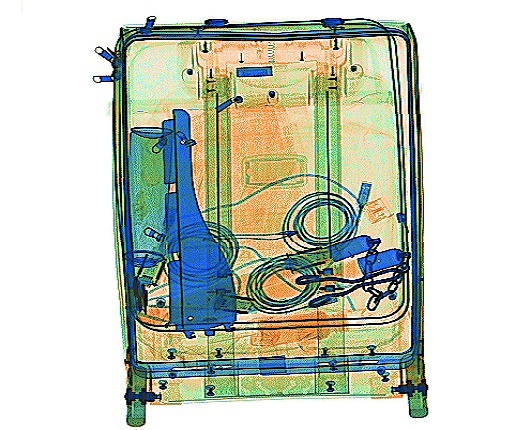pressure: (120, 122, 176, 271)
slingshot: (291, 266, 405, 309)
